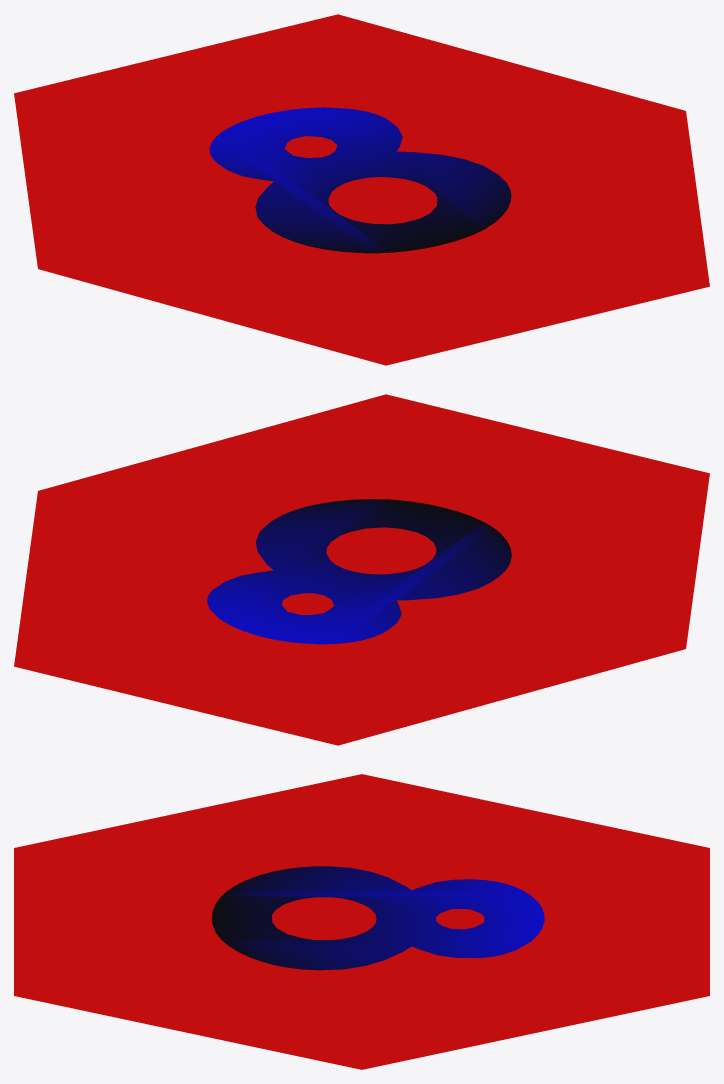
The model's file is SM_Number_8.fbx.
3 views of the same model, one above another, from view 1: azimuth 30°, elevation 25°; view 2: azimuth 150°, elevation 25°; view 3: azimuth 270°, elevation 25° (orthographic). The views are drawn at different scales.
Parts seen in each view (by area): view 1: FBX_OUT; view 2: FBX_OUT; view 3: FBX_OUT.
Boxes of the visible parts, x1=… form: FBX_OUT: x1=14, y1=14, x2=709, y2=365; FBX_OUT: x1=14, y1=394, x2=709, y2=745; FBX_OUT: x1=14, y1=774, x2=709, y2=1069.
Bounding box in the file's own units: 50 × 0.2917 × 49.71.
